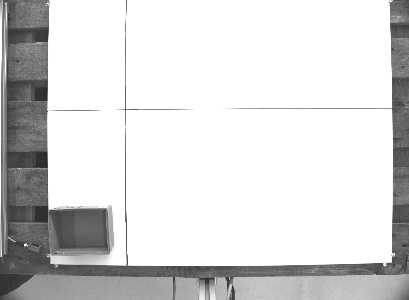klts: (45, 202, 119, 259)
